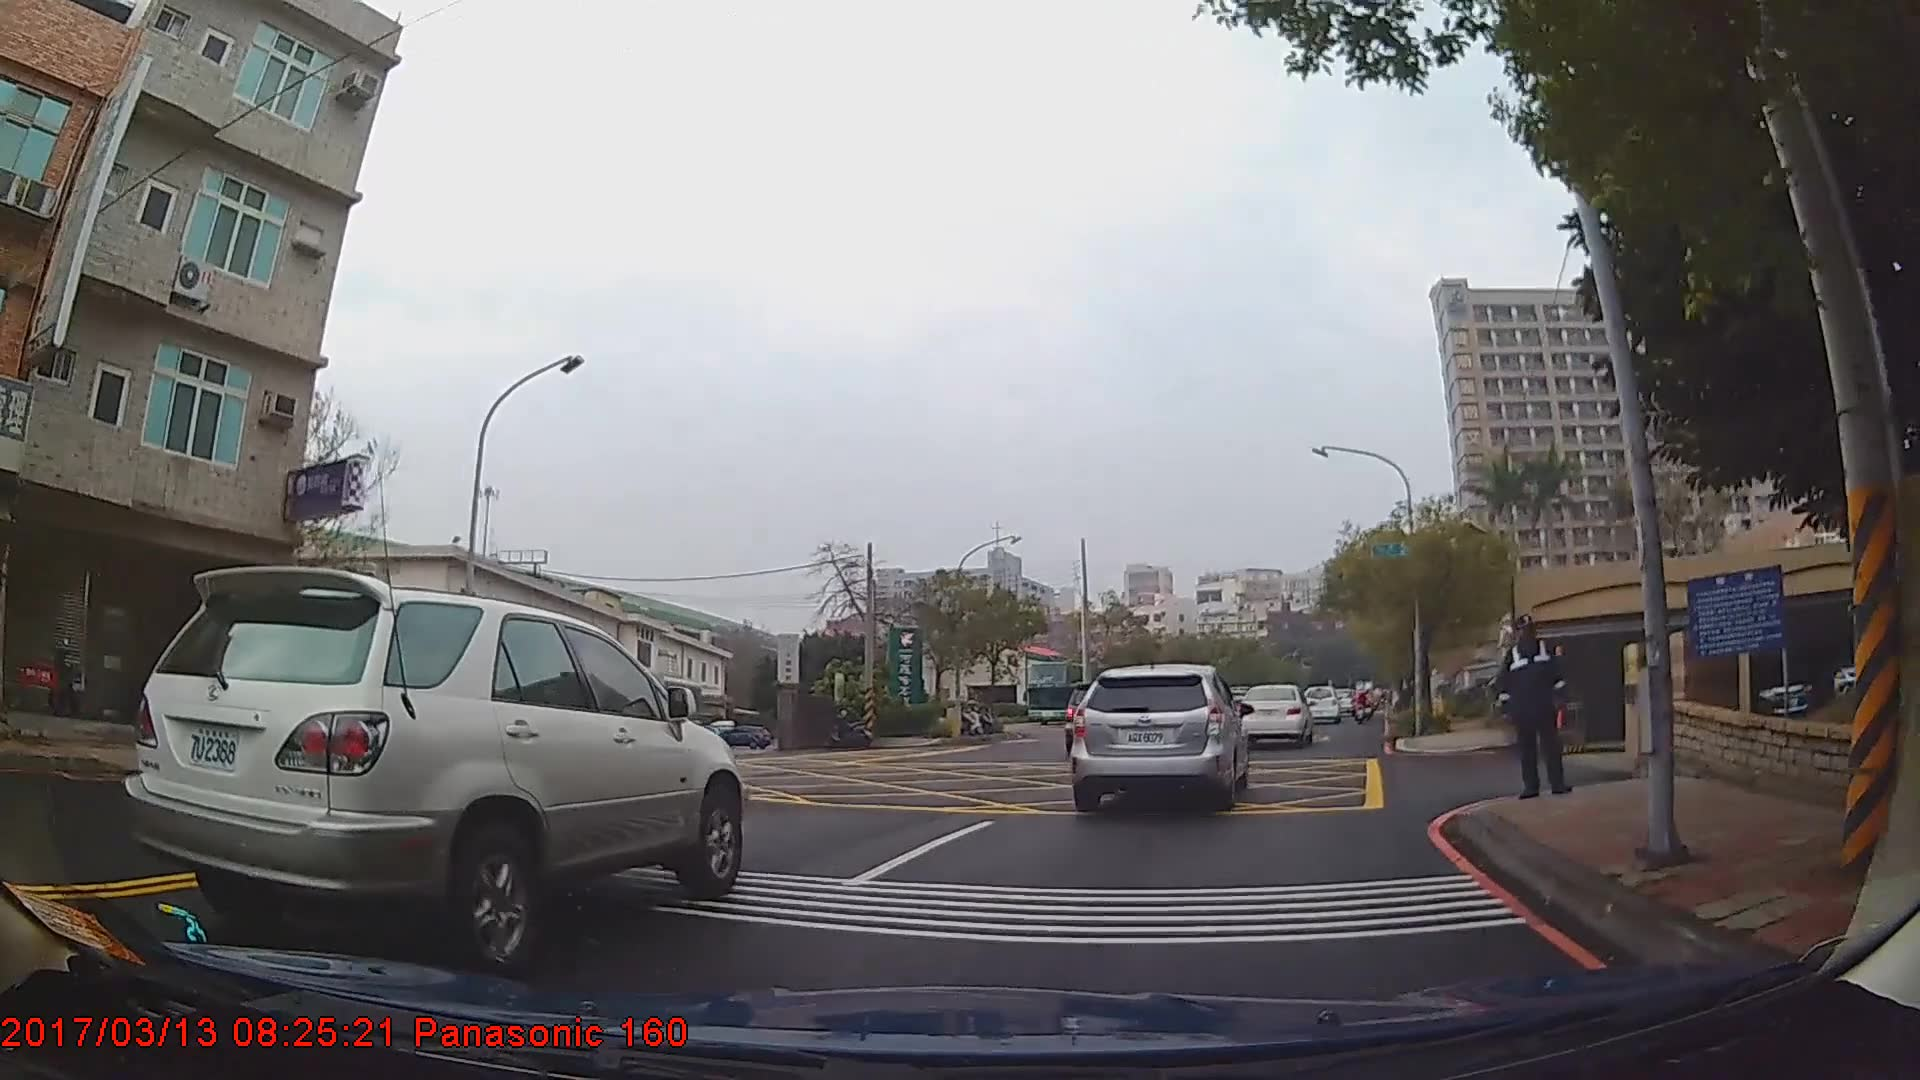pedestrian: (1502, 613, 1571, 801)
vehicle: (121, 564, 744, 976), (1070, 661, 1249, 813), (1234, 684, 1314, 750), (1303, 685, 1343, 726), (713, 725, 770, 747)
